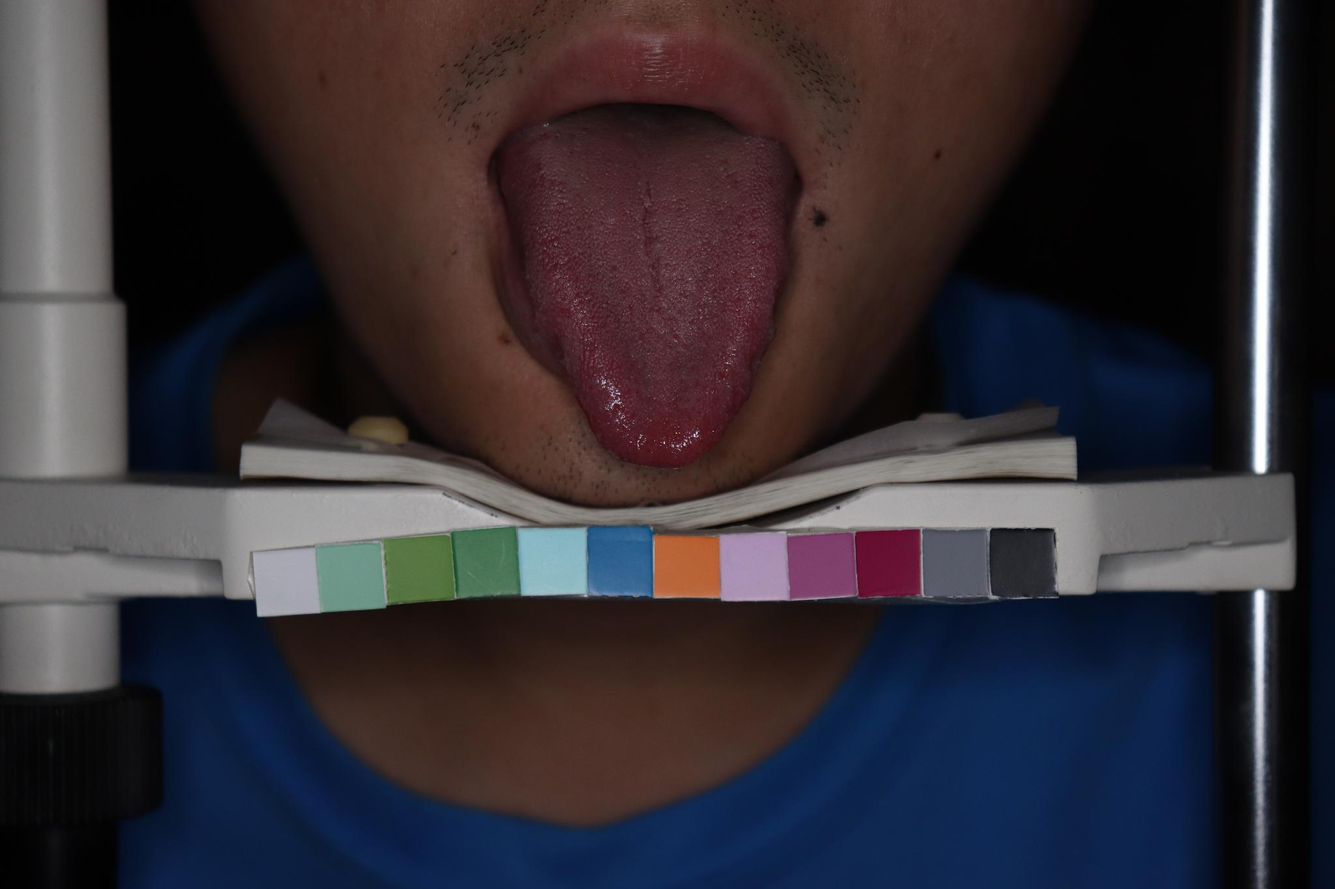baitaishe: (498, 120, 792, 465)
hongshe: (499, 121, 793, 466)
